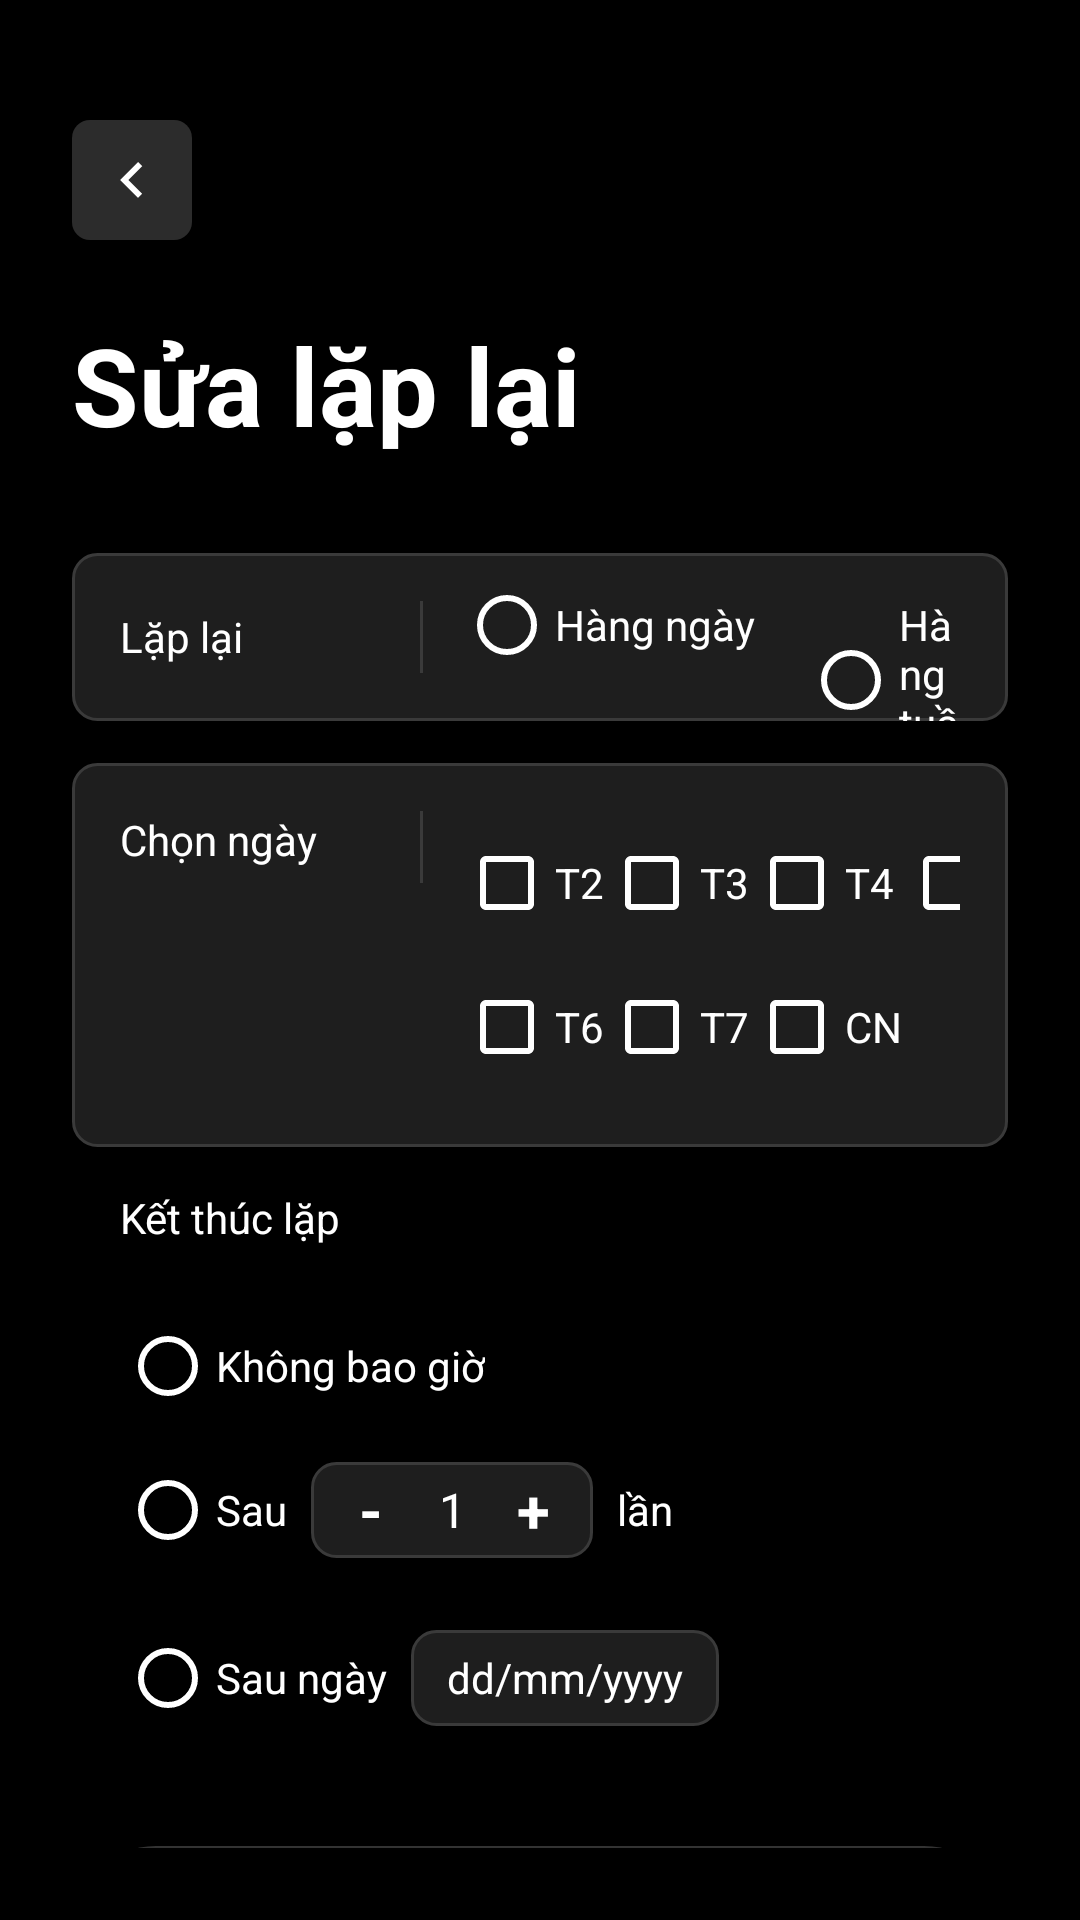

Icons on this 1080*1920 Android screen, each with its box as (x1,y1,x2,y2):
back: (72,120,192,240)
